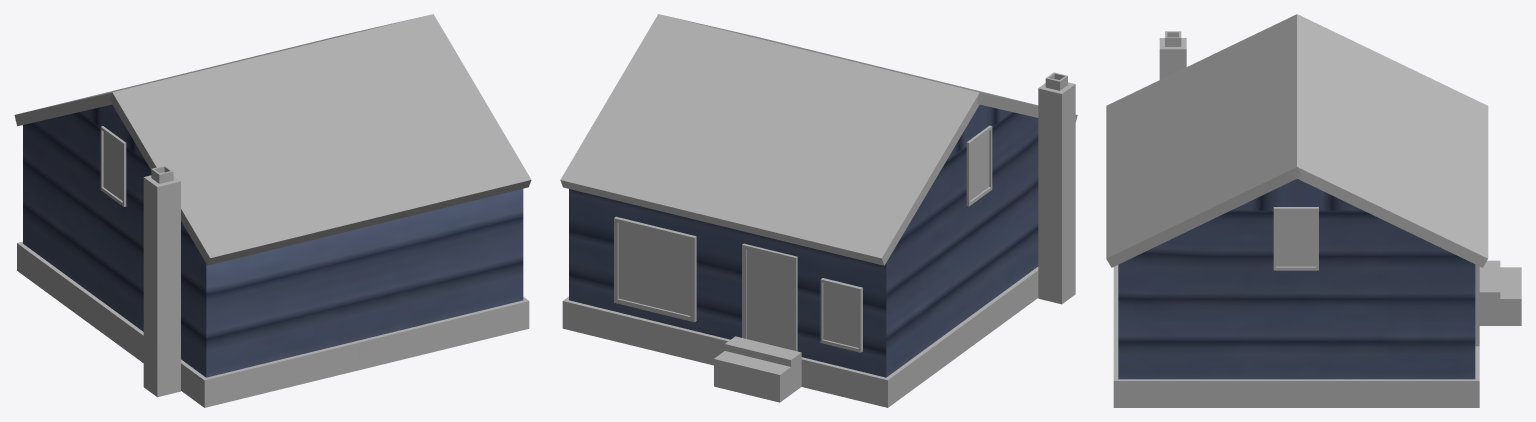
File: House.fbx
3 renders of one model, left to right at view 1: azimuth 30°, elevation 25°; view 2: azimuth 150°, elevation 25°; view 3: azimuth 270°, elevation 25°, orthographic. The views are drawn at different scales.
Visible parts, largest first — view 1: Roof1, House, HouseBase, Chimney, Roof2, Window, WindowFrame2; view 2: Roof2, House, HouseBase, Window (×3), Chimney, Door, WindowFrame, Roof1, DoorFrame, WindowFrame1, WindowFrame2; view 3: House, Roof2, Roof1, HouseBase, Window, Chimney, WindowFrame3, WindowFrame.
Boxes of the visible parts, x1=… form: Roof1: x1=109, y1=14, x2=531, y2=265; House: x1=23, y1=104, x2=523, y2=377; HouseBase: x1=17, y1=241, x2=529, y2=407; Chimney: x1=143, y1=165, x2=180, y2=397; Roof2: x1=14, y1=14, x2=430, y2=126; Window: x1=103, y1=132, x2=122, y2=200; WindowFrame2: x1=100, y1=126, x2=126, y2=206; Roof2: x1=560, y1=14, x2=982, y2=265; House: x1=569, y1=104, x2=1038, y2=377; HouseBase: x1=562, y1=267, x2=1038, y2=407; Window (×3): x1=618, y1=131, x2=989, y2=347; Chimney: x1=1038, y1=72, x2=1075, y2=304; Door: x1=747, y1=249, x2=792, y2=349; WindowFrame: x1=614, y1=216, x2=696, y2=322; Roof1: x1=659, y1=14, x2=1077, y2=122; DoorFrame: x1=742, y1=243, x2=797, y2=351; WindowFrame1: x1=820, y1=278, x2=862, y2=352; WindowFrame2: x1=966, y1=125, x2=992, y2=206; House: x1=1118, y1=179, x2=1475, y2=379; Roof2: x1=1293, y1=14, x2=1488, y2=267; Roof1: x1=1106, y1=14, x2=1302, y2=267; HouseBase: x1=1113, y1=260, x2=1521, y2=407; Window: x1=1275, y1=211, x2=1316, y2=266; Chimney: x1=1159, y1=31, x2=1186, y2=79; WindowFrame3: x1=1273, y1=207, x2=1318, y2=270; WindowFrame: x1=1475, y1=264, x2=1479, y2=346.
Size of the model in its own units: 6.45 by 4.37 by 6.83.
8 materials, 1 textured.
